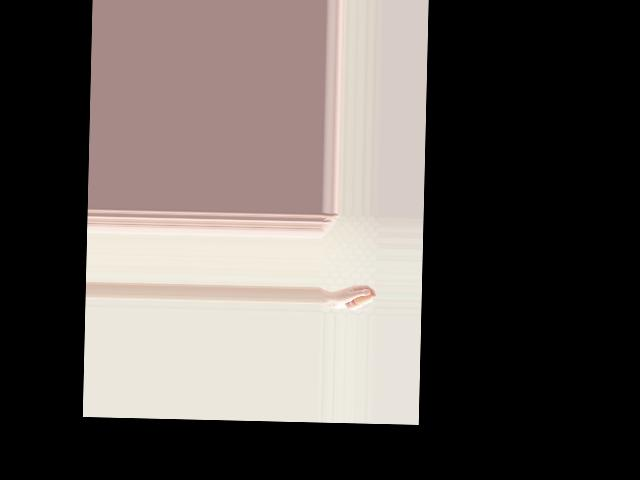egg: (353, 290, 373, 306)
